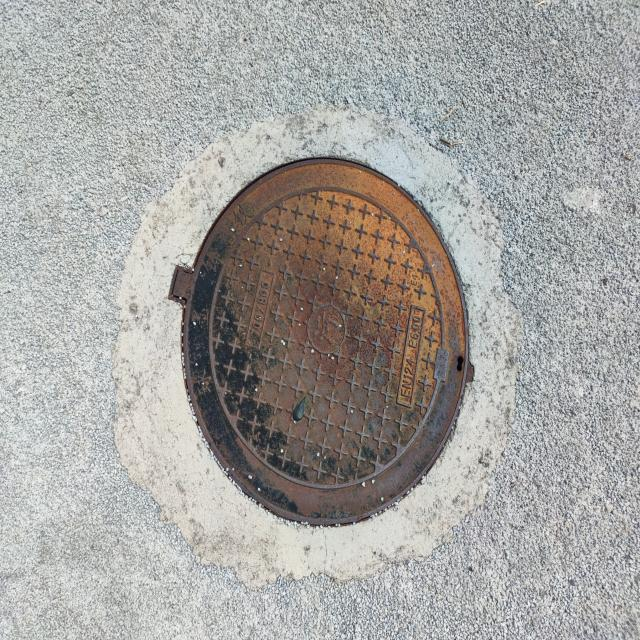Good: (167, 152, 487, 534)
